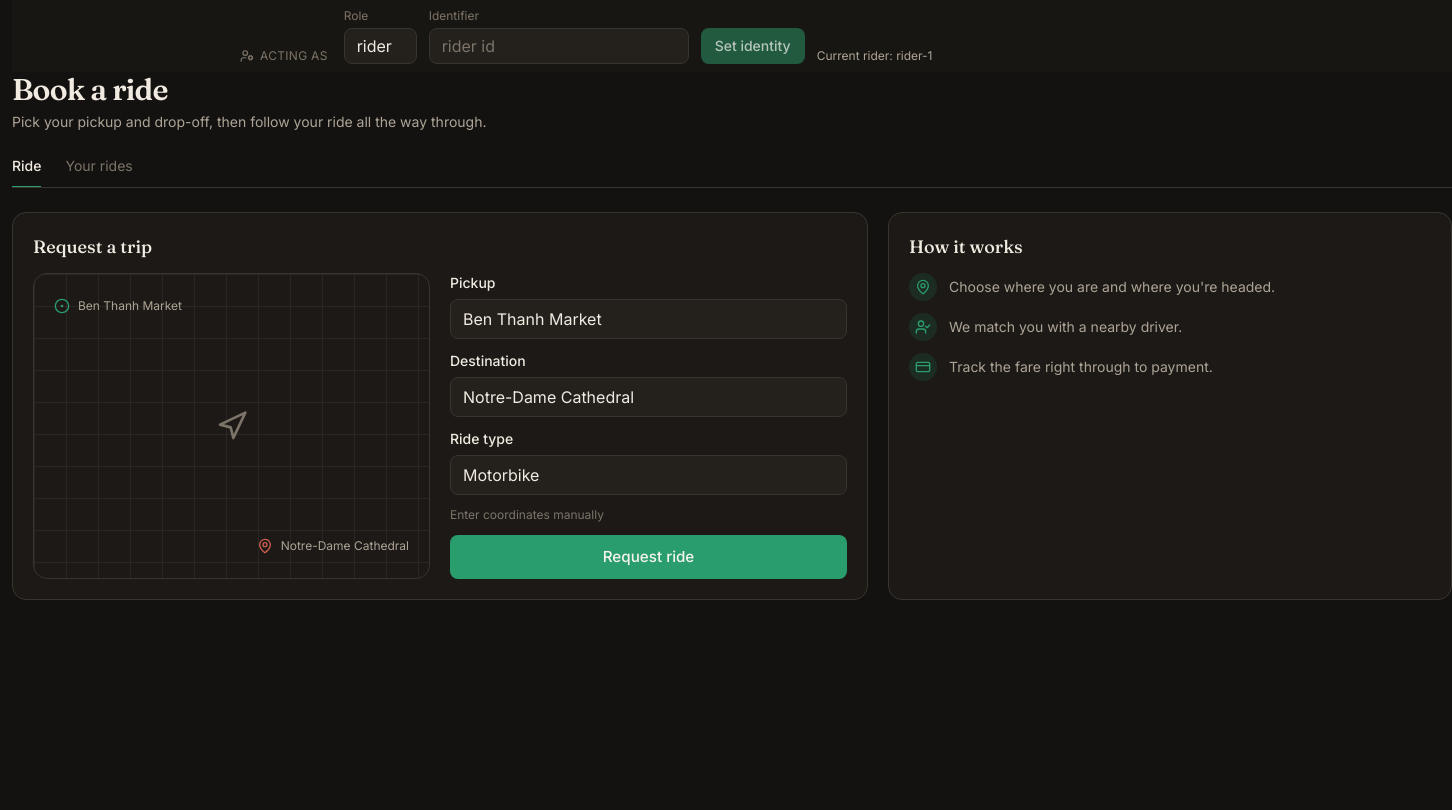
Test: Feature: ridenow-frontend, rider ride journey › lists 'Your rides' and opens a selected ride's journey
# Switch to the "Your rides" screen.
Step 1. Click the button "Your rides" → {"x": 99, "y": 172}, box [66,156,133,188]
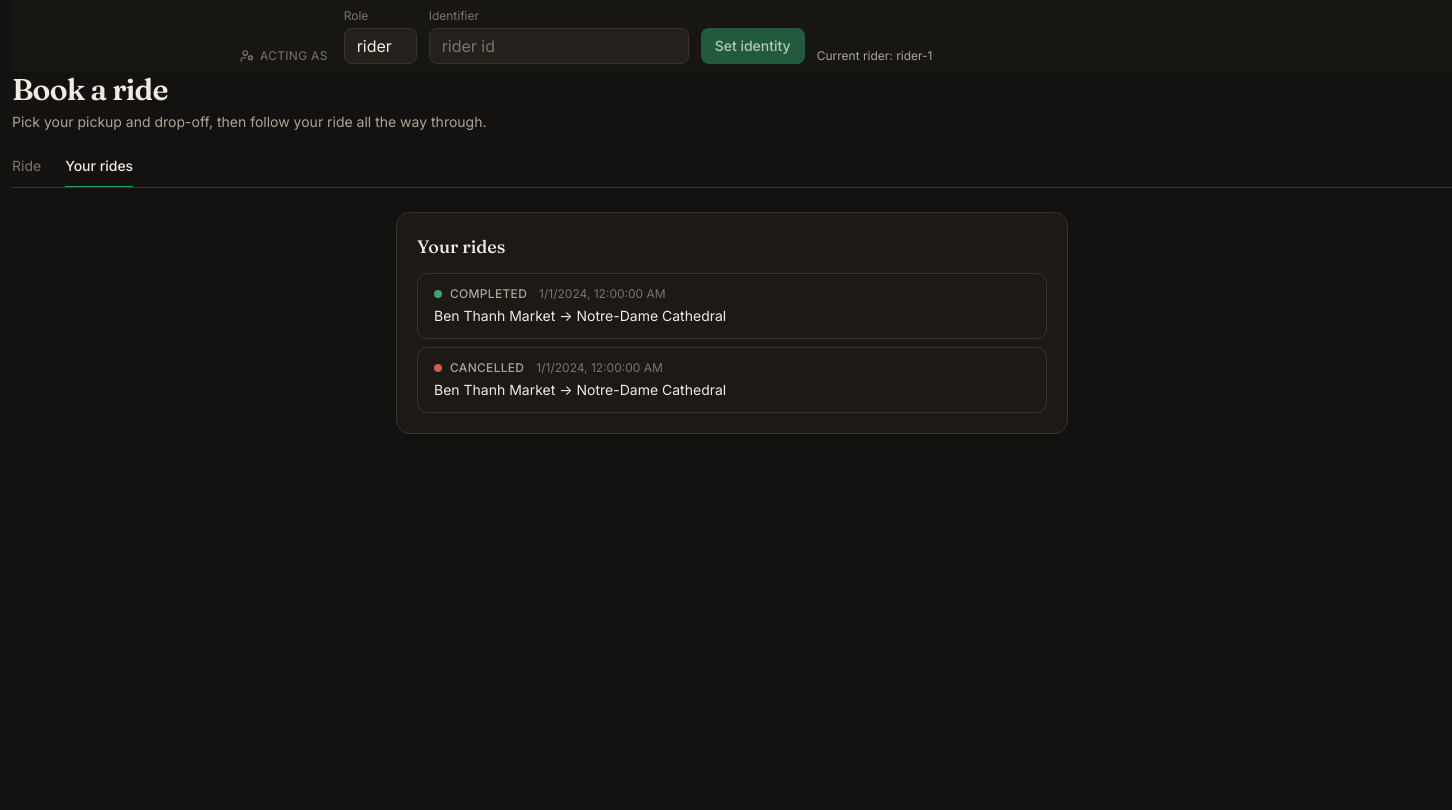
Step 2. Click the button that starts with "Completed" → {"x": 489, "y": 294}, box [417,273,1047,339]
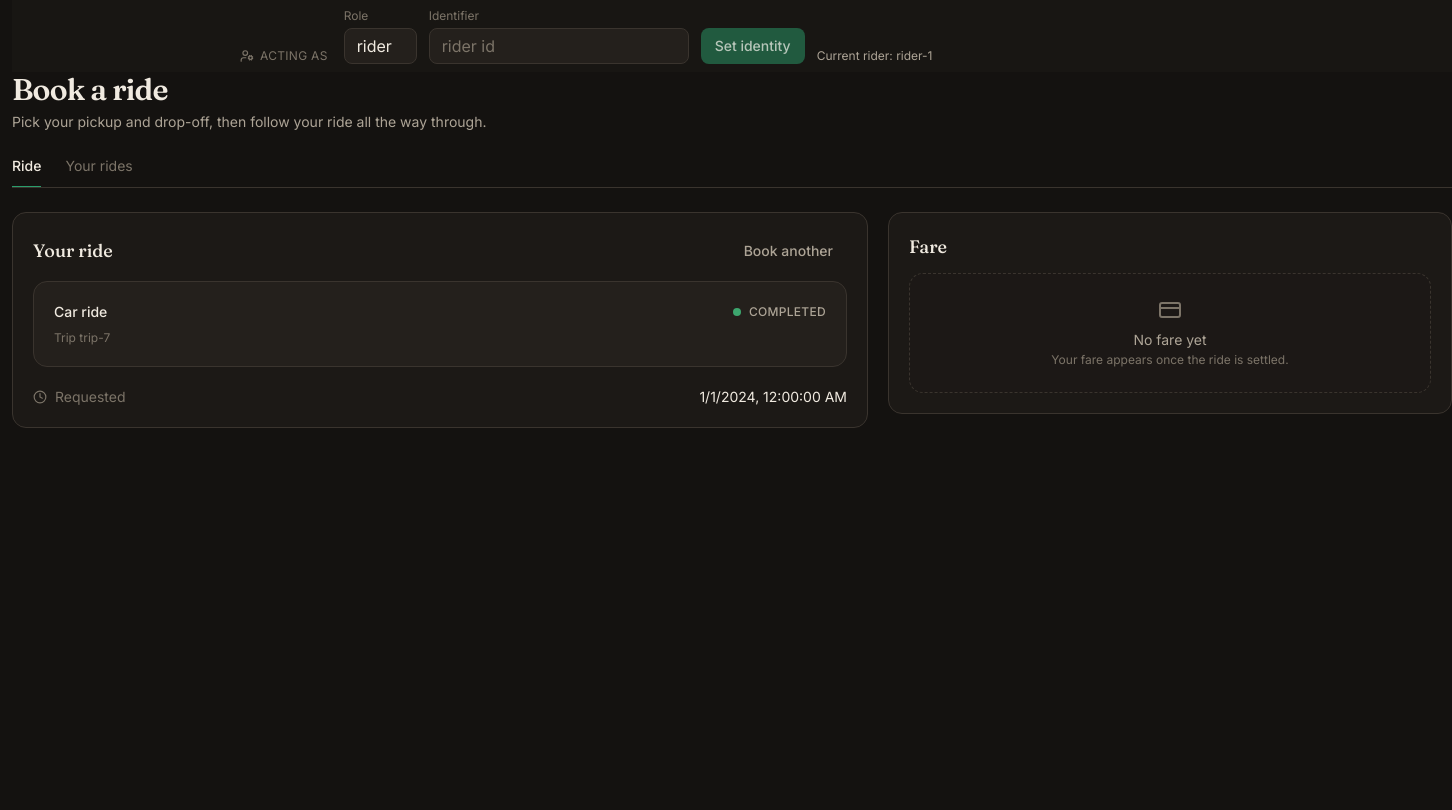
Now the text "Trip trip-7" is shown, box [54,330,110,345]
